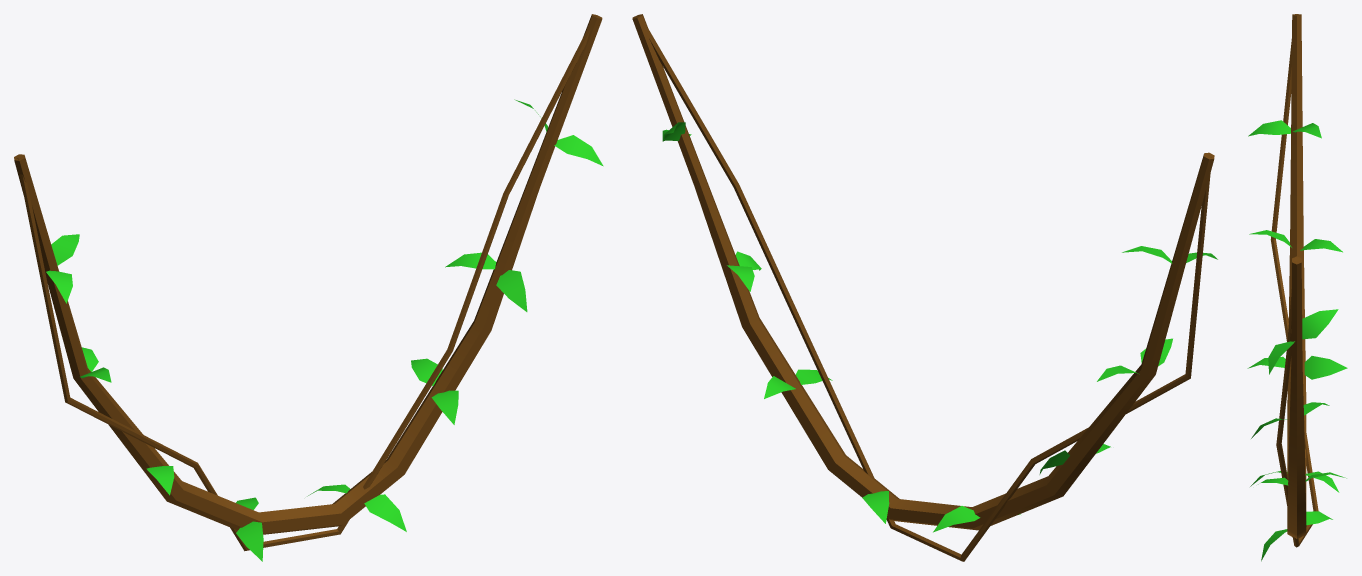
Rendered from Liane_1.FBX.
3 renders of one model, left to right at view 1: azimuth 30°, elevation 25°; view 2: azimuth 150°, elevation 25°; view 3: azimuth 270°, elevation 25°, orthographic. The views are drawn at different scales.
Parts seen in each view (by area): view 1: Liane_3; view 2: Liane_3; view 3: Liane_3.
Boxes of the visible parts, box(x1,y1,x2,y2) form: Liane_3: box(14, 14, 603, 561); Liane_3: box(632, 14, 1217, 561); Liane_3: box(1247, 14, 1347, 561).
Size of the model in its own units: 660 by 495 by 113.
